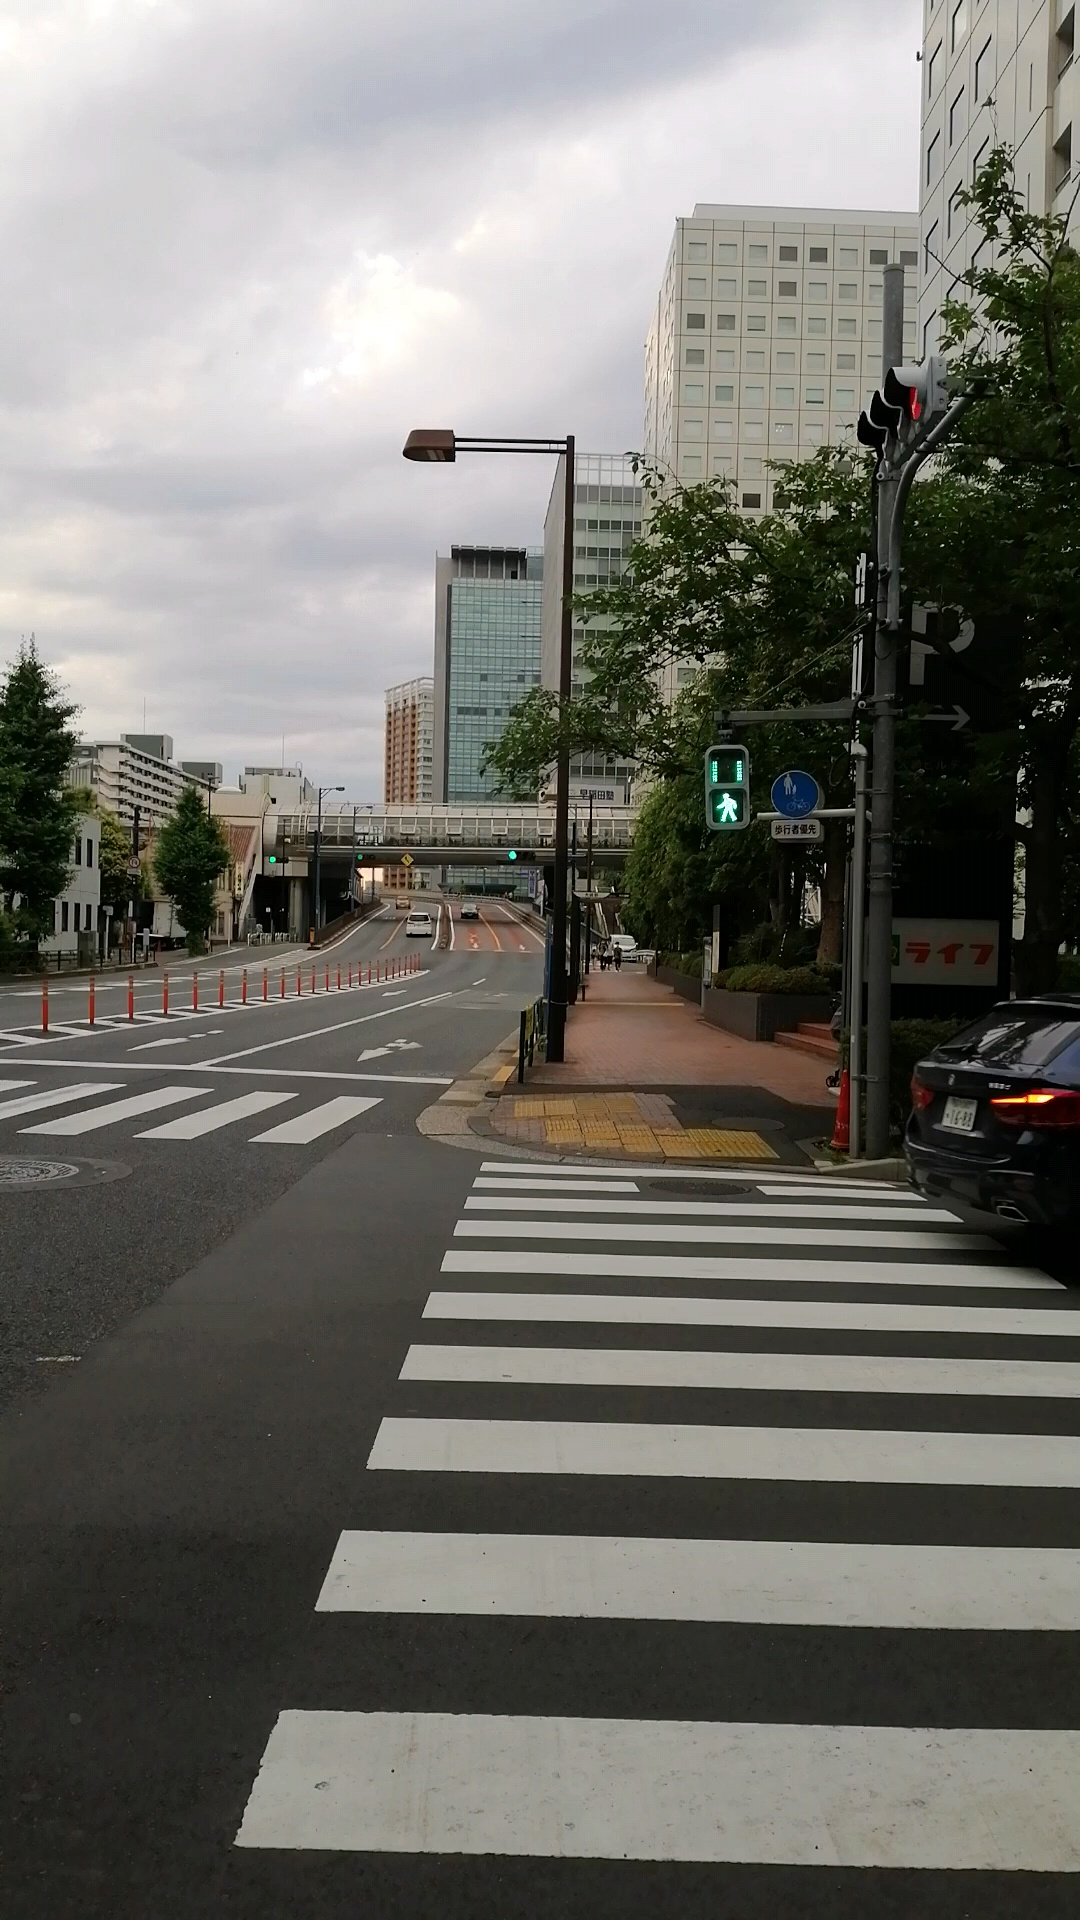green: (703, 744, 750, 829)
